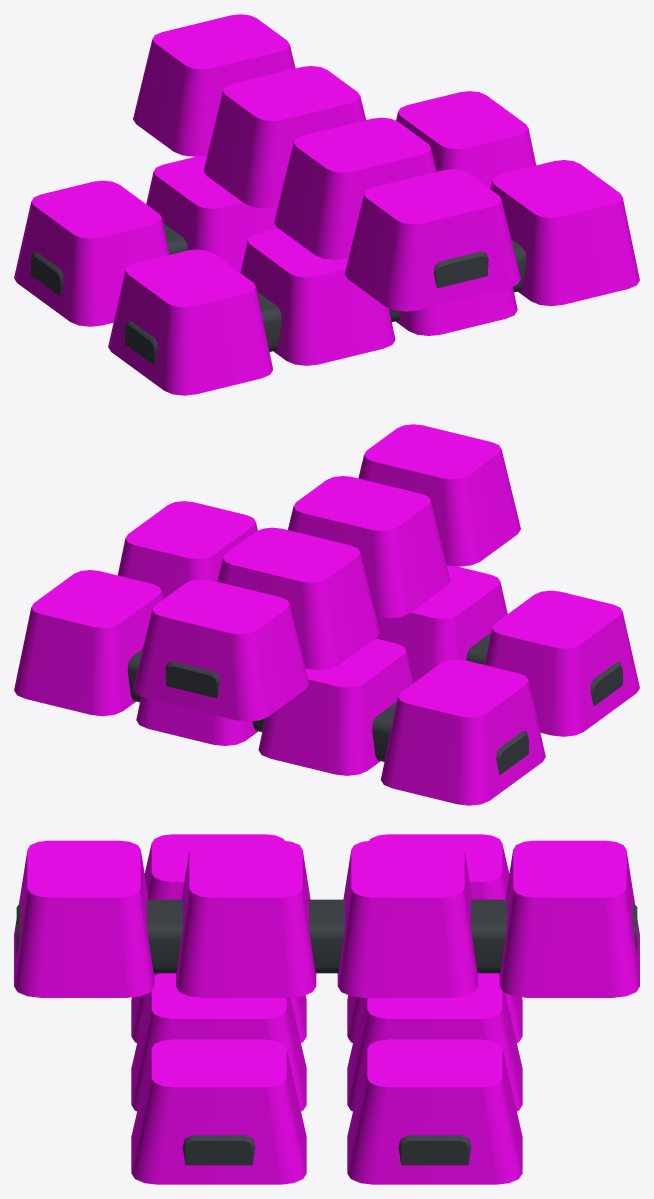
Rendered from objet_lingot_zamak.glb.
3 views of the same model, one above another, from view 1: azimuth 30°, elevation 25°; view 2: azimuth 150°, elevation 25°; view 3: azimuth 270°, elevation 25° (orthographic). The views are drawn at different scales.
Parts seen in each view (by area): view 1: lingots_teinte.004, lingots_teinte_sombre.004; view 2: lingots_teinte.004, lingots_teinte_sombre.004; view 3: lingots_teinte.004, lingots_teinte_sombre.004.
Part boxes in pixels (<box>): lingots_teinte.004: <box>14,14,639,395</box>; lingots_teinte_sombre.004: <box>31,223,526,365</box>; lingots_teinte.004: <box>14,424,639,805</box>; lingots_teinte_sombre.004: <box>127,633,622,775</box>; lingots_teinte.004: <box>14,834,639,1184</box>; lingots_teinte_sombre.004: <box>16,899,637,1165</box>.
Size of the model in its own units: 0.232 by 0.075 by 0.232.
